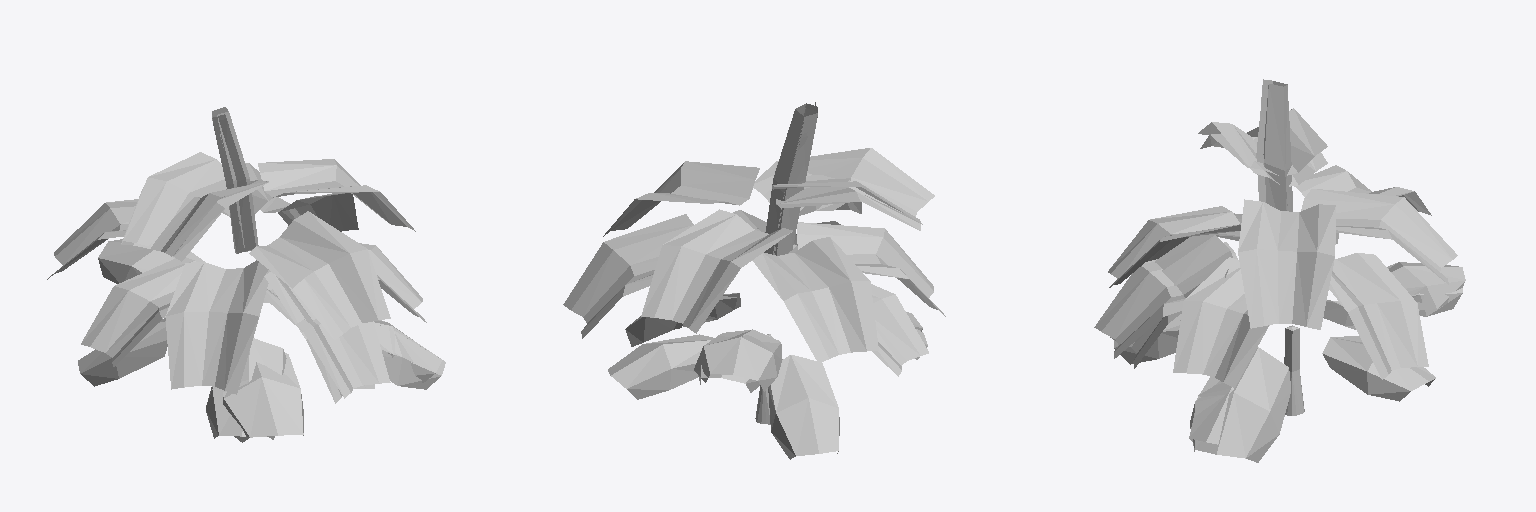
File: Alocasia macrorrhiza 01_LOD4.obj
The picture shows the model from 3 angles: view 1: azimuth 30°, elevation 25°; view 2: azimuth 150°, elevation 25°; view 3: azimuth 270°, elevation 25°; orthographic projection.
Visible parts, largest first — view 1: tree; view 2: tree; view 3: tree.
Part boxes in pixels (bbox=[...]): tree: bbox=[47, 107, 445, 442]; tree: bbox=[563, 102, 945, 459]; tree: bbox=[1094, 79, 1465, 462].
Bounding box in the file's own units: 243 × 228 × 244.